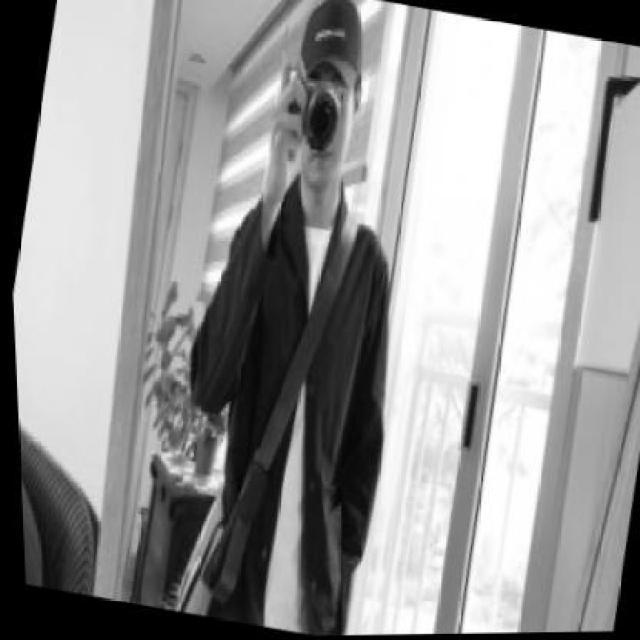hat: (286, 0, 374, 103)
